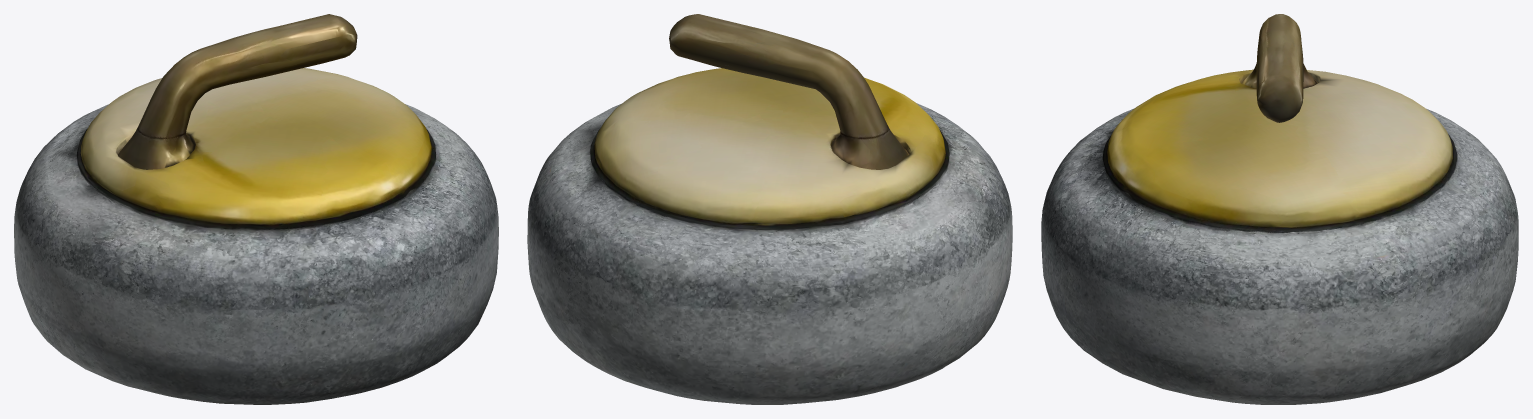
File: curling-stone.glb
3 renders of one model, left to right at view 1: azimuth 30°, elevation 25°; view 2: azimuth 150°, elevation 25°; view 3: azimuth 270°, elevation 25°, orthographic.
Parts seen in each view (by area): view 1: tripo_node_308cf1fc-5f23-4633-9110-7ab5a5328d72; view 2: tripo_node_308cf1fc-5f23-4633-9110-7ab5a5328d72; view 3: tripo_node_308cf1fc-5f23-4633-9110-7ab5a5328d72.
Boxes of the visible parts, <box> form: tripo_node_308cf1fc-5f23-4633-9110-7ab5a5328d72: <box>14,14,498,404</box>; tripo_node_308cf1fc-5f23-4633-9110-7ab5a5328d72: <box>527,14,1012,404</box>; tripo_node_308cf1fc-5f23-4633-9110-7ab5a5328d72: <box>1041,14,1518,404</box>.
Size of the model in its own units: 1 by 0.6735 by 0.9989.
Materials: 1 (1 with a texture image).
